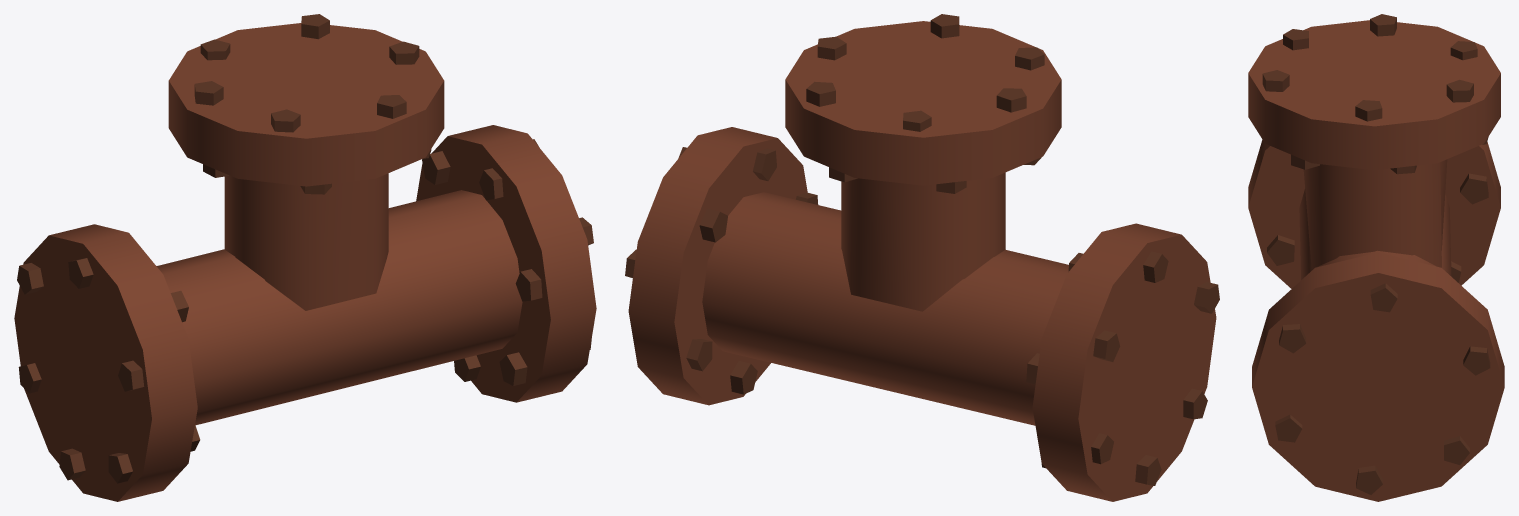
The model's file is canos_004.fbx.
3 renders of one model, left to right at view 1: azimuth 30°, elevation 25°; view 2: azimuth 150°, elevation 25°; view 3: azimuth 270°, elevation 25°, orthographic. The views are drawn at different scales.
Parts seen in each view (by area): view 1: canos_004; view 2: canos_004; view 3: canos_004.
Part boxes in pixels (x1=…): canos_004: x1=14, y1=14, x2=596, y2=501; canos_004: x1=625, y1=14, x2=1219, y2=501; canos_004: x1=1248, y1=14, x2=1504, y2=501.
Bounding box in the file's own units: 238 × 180 × 123.
